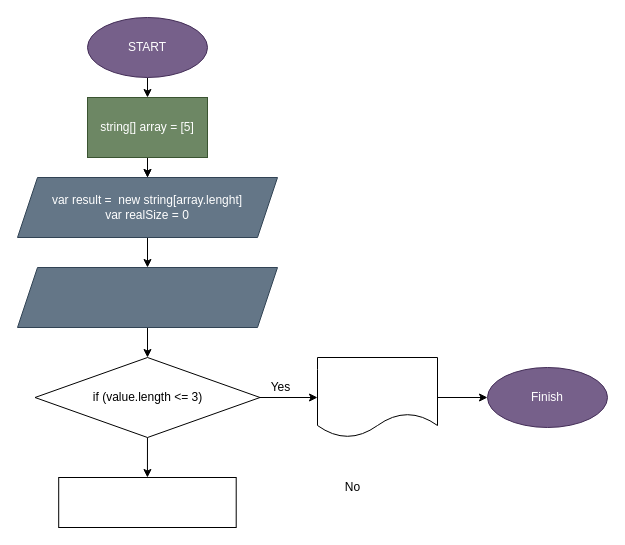
Some shapes in this 625 by 545 pixel diagram are drawn without their labels. Each missing label, with the centre of its shape:
"foreach (var value in array)" goes at (147,297).
"print aray" goes at (377,397).
"resualt[realSize] = value realSize++" goes at (147,502).
